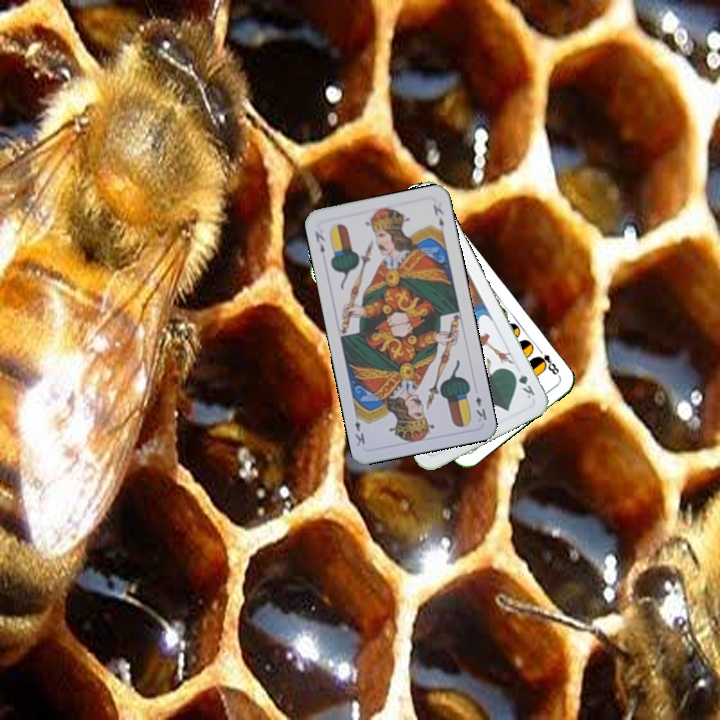E8: (531, 344, 562, 378)
EK: (471, 392, 489, 425), (310, 227, 328, 256)
GK: (508, 366, 538, 401)
